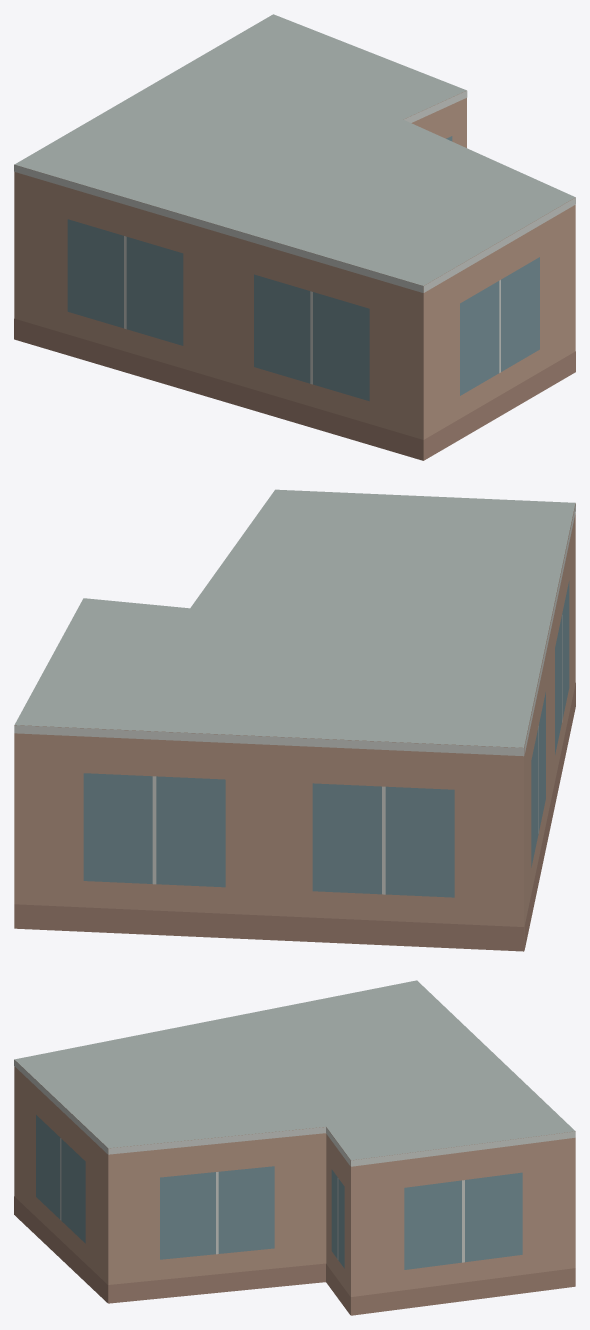
File: survey-upis-32627446.glb
3 views of the same model, one above another, from view 1: azimuth 30°, elevation 25°; view 2: azimuth 150°, elevation 25°; view 3: azimuth 270°, elevation 25° (orthographic). The views are drawn at different scales.
Parts seen in each view (by area): view 1: survey-upis-32627446.tmp; view 2: survey-upis-32627446.tmp; view 3: survey-upis-32627446.tmp.
Boxes of the visible parts, x1,y1,x2,y2 form: survey-upis-32627446.tmp: (14, 14, 575, 460); survey-upis-32627446.tmp: (14, 489, 575, 951); survey-upis-32627446.tmp: (14, 980, 575, 1315).
Bounding box in the file's own units: 7.6 × 3.05 × 10.01.
